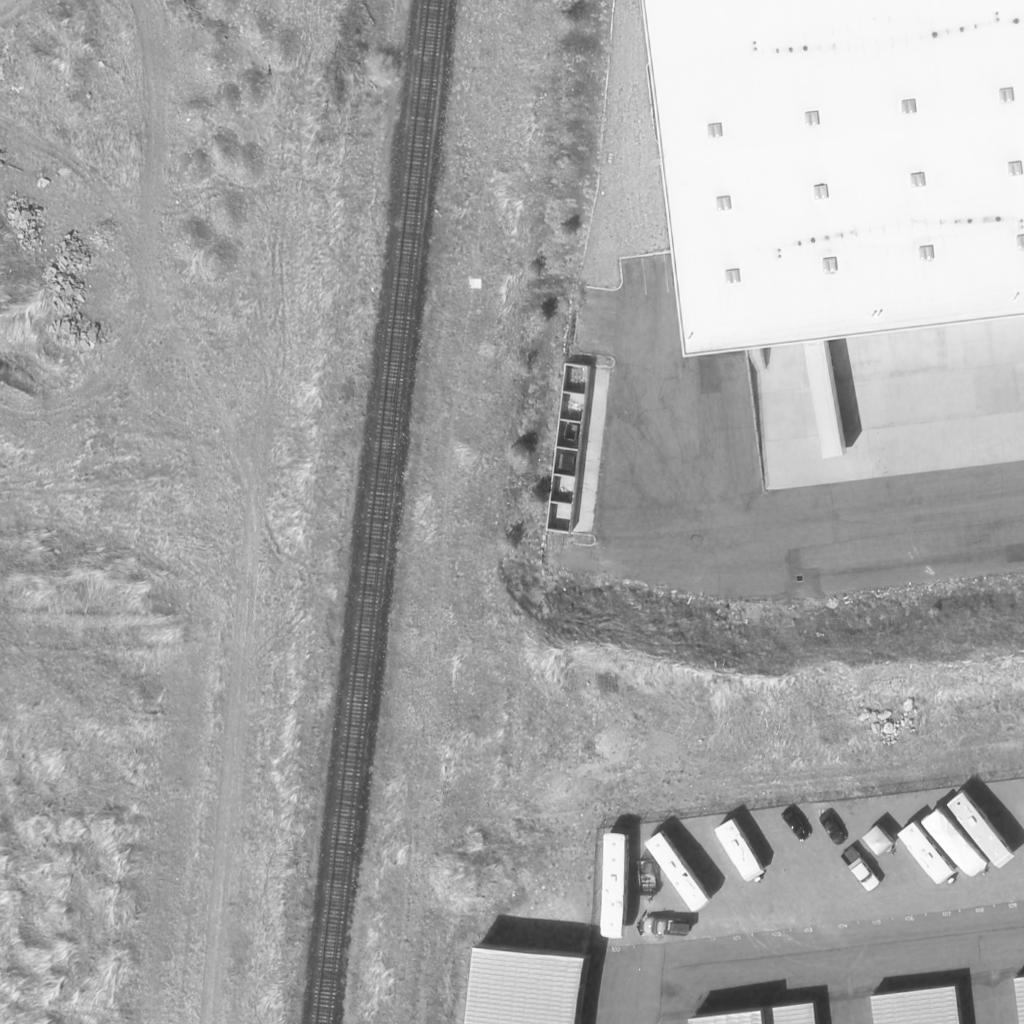vehicle: (643, 834, 715, 916), (951, 793, 1011, 869), (921, 813, 989, 879), (896, 824, 960, 892), (600, 834, 630, 942), (715, 821, 765, 883), (837, 843, 883, 897), (779, 804, 815, 842), (638, 916, 694, 938), (819, 812, 851, 848)
